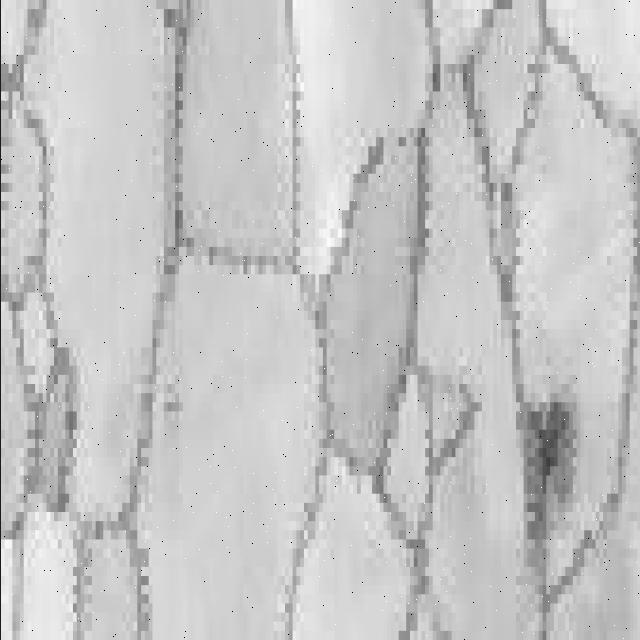good_void: (515, 387, 581, 551)
